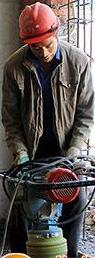boots: (0, 182, 14, 191)
hard-hat: (18, 0, 60, 42)
